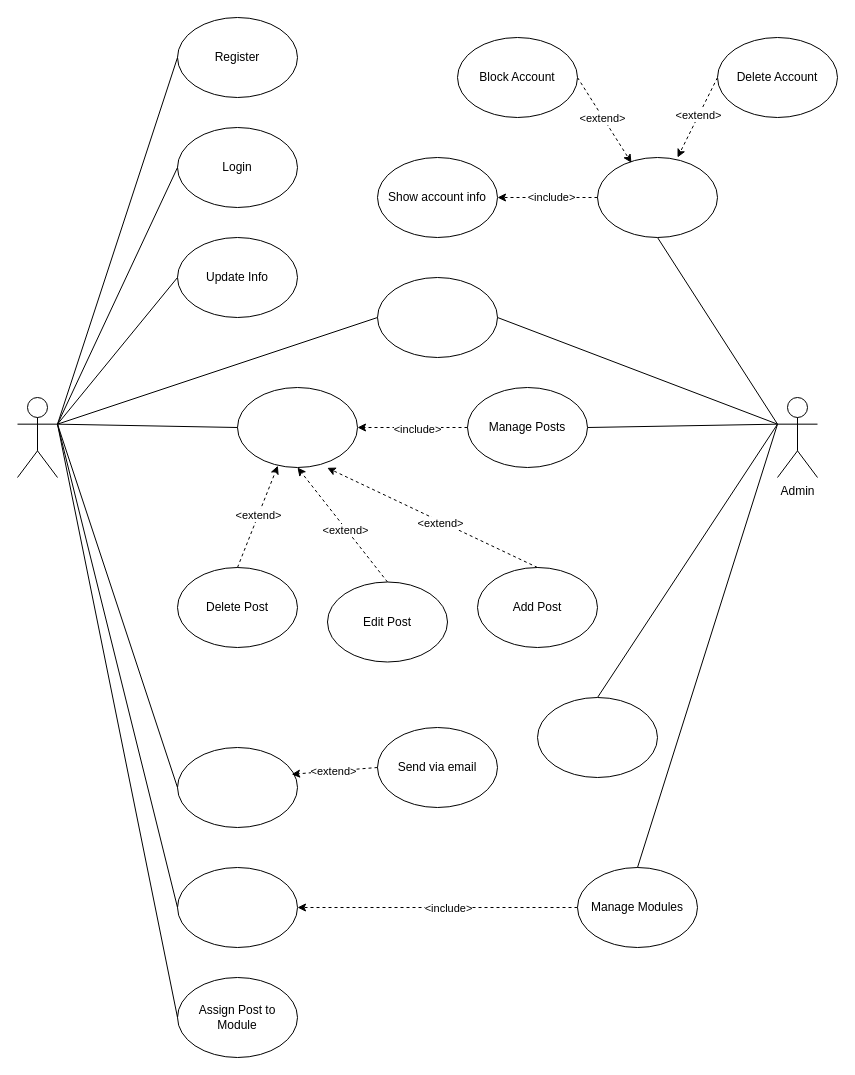
This 855x1075 diagram has some shape labels left out. The centre of each missing label's shape, as x and y in pixels:
Contact: the point at 237,787
Manage Account: the point at 657,197
Manage Own Post: the point at 297,427
Receive email: the point at 597,737
User: the point at 37,437
View Modules: the point at 237,907
View Questions: the point at 437,317
